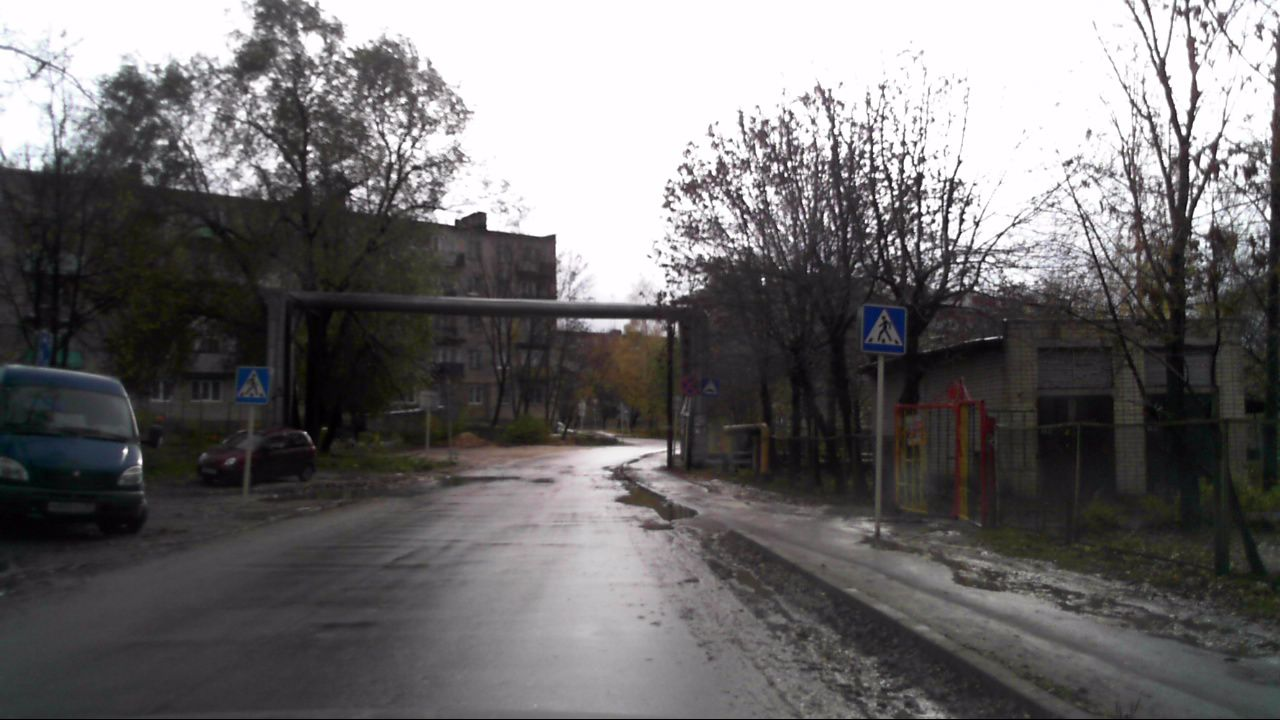No Parking: (679, 372, 703, 397)
